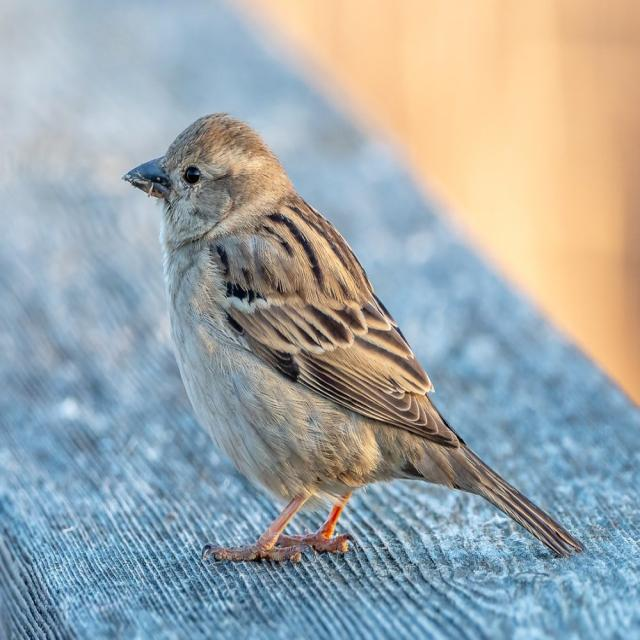Sparrow: (118, 103, 582, 573)
